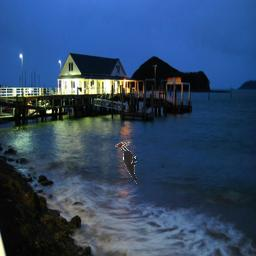Woodpecker: (115, 142, 137, 185)
